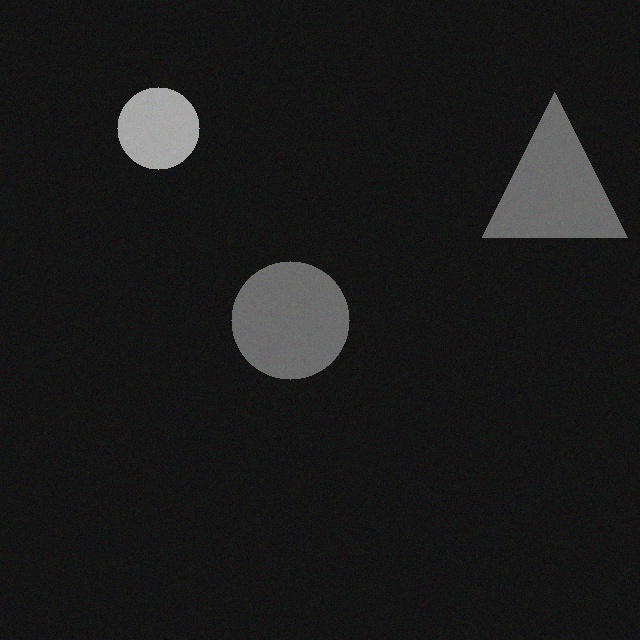circle: (228, 265, 346, 383), (114, 91, 196, 173)
triangle: (479, 96, 624, 241)
